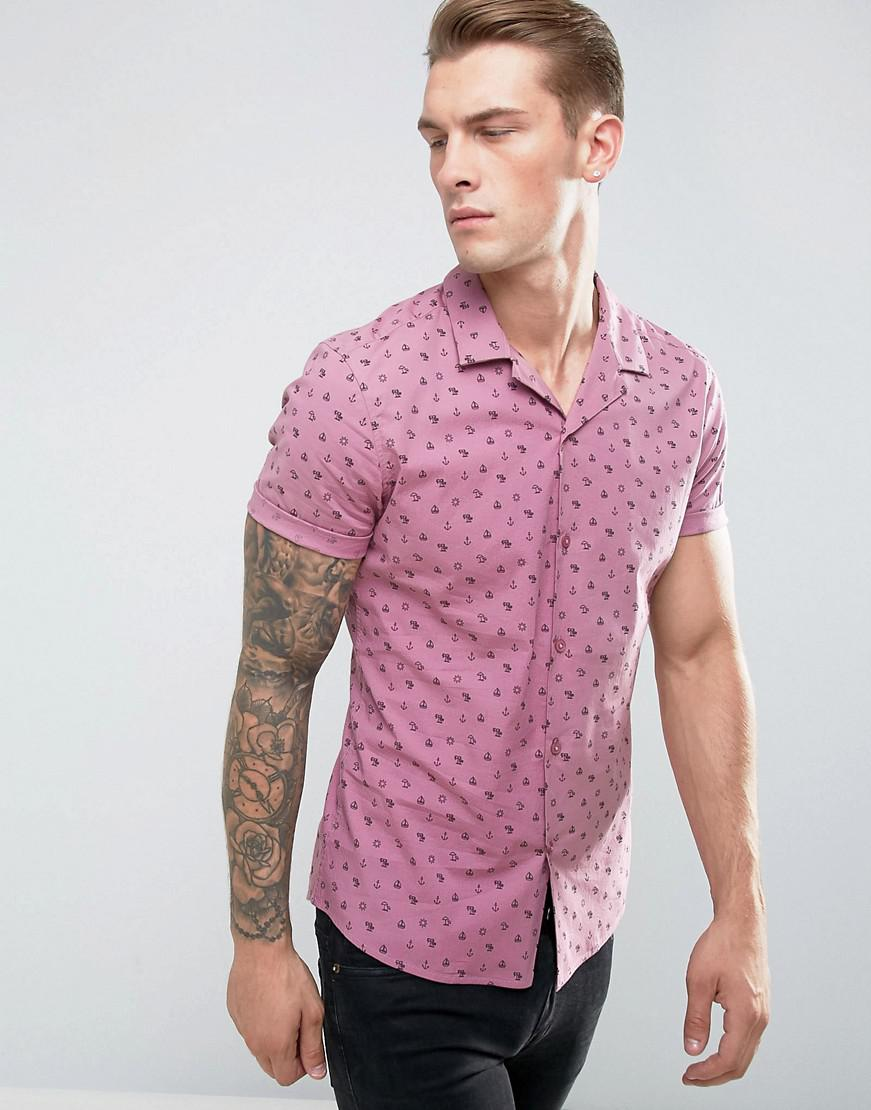teeshirt: (246, 249, 732, 1007)
